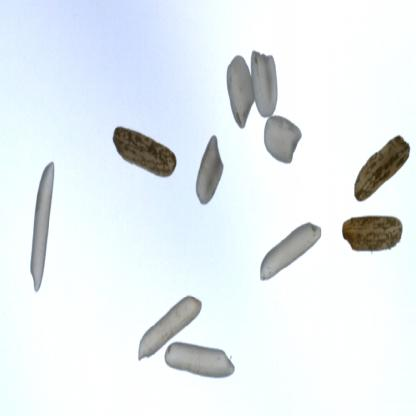Full: (137, 296, 204, 361), (353, 136, 411, 203), (259, 223, 323, 282), (29, 161, 56, 294), (111, 127, 178, 180), (164, 342, 236, 380), (341, 215, 404, 254), (195, 135, 225, 207), (226, 56, 255, 130), (250, 50, 281, 119), (263, 116, 304, 166)
